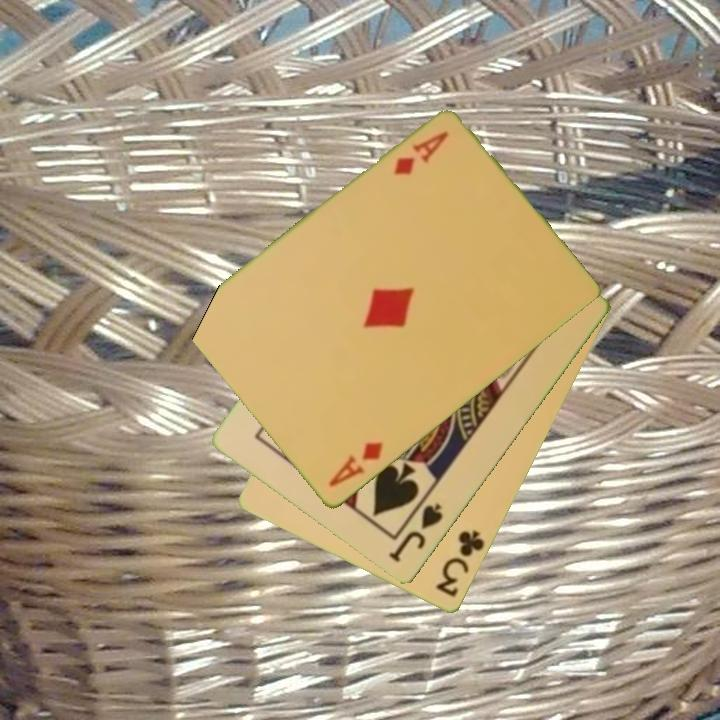3c: (433, 527, 488, 601)
Ad: (324, 438, 386, 491), (390, 128, 452, 179)
Js: (385, 500, 446, 566)
